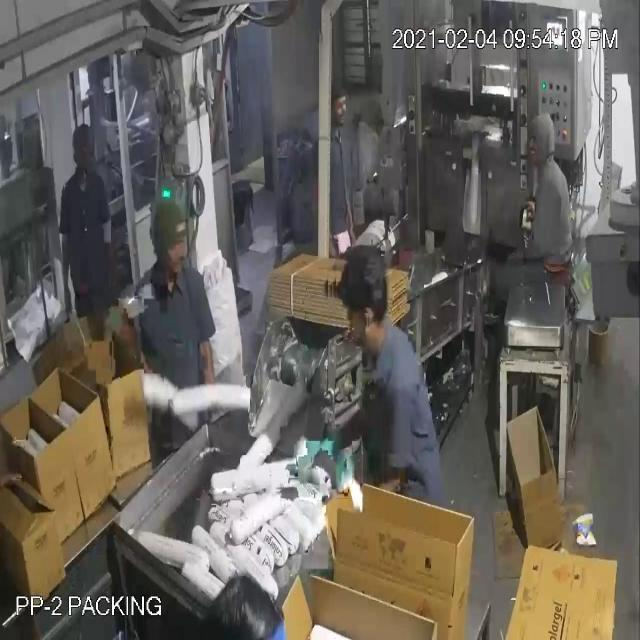No_Gloves: (201, 326, 229, 426)
